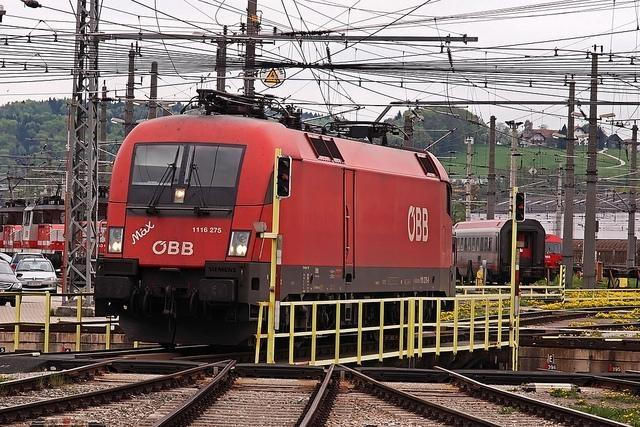car: (15, 256, 58, 293), (0, 258, 28, 308), (10, 253, 44, 273), (0, 252, 13, 263)
